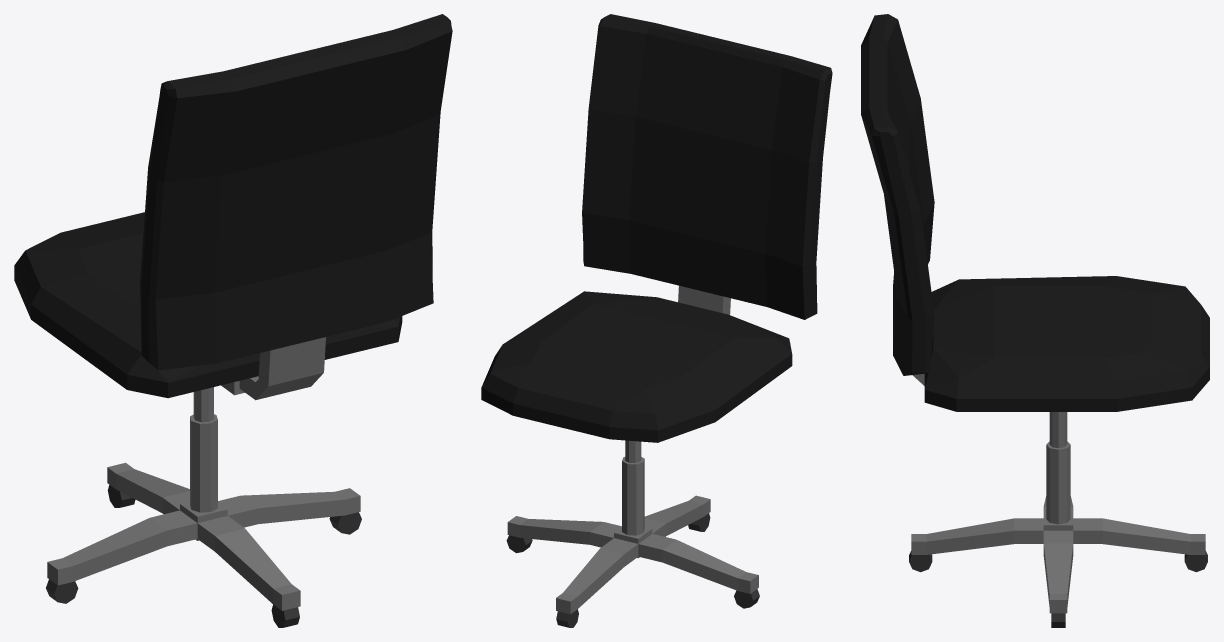
Rendered from chair1.fbx.
3 renders of one model, left to right at view 1: azimuth 30°, elevation 25°; view 2: azimuth 150°, elevation 25°; view 3: azimuth 270°, elevation 25°, orthographic. The views are drawn at different scales.
Parts seen in each view (by area): view 1: Cube; view 2: Cube; view 3: Cube.
Part boxes in pixels (bbox=[...]): Cube: bbox=[14, 14, 452, 627]; Cube: bbox=[481, 14, 832, 627]; Cube: bbox=[861, 14, 1209, 627].
Bounding box in the file's own units: 53.7 × 98.79 × 62.6.
